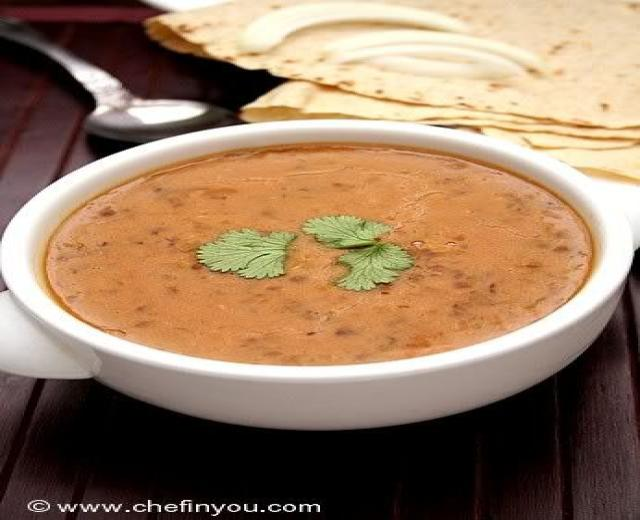dal makhni: (0, 117, 634, 429), (0, 15, 239, 141)
